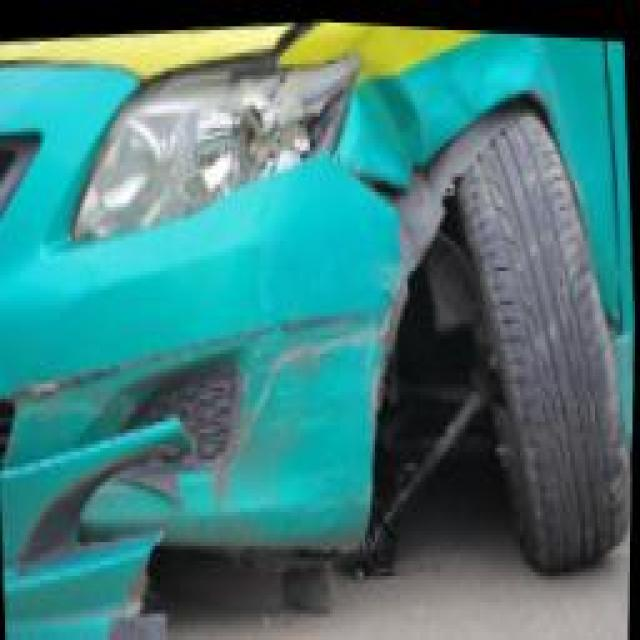Bumper: (0, 184, 417, 640)
Fender: (350, 19, 604, 153)
Light: (228, 41, 352, 172)
